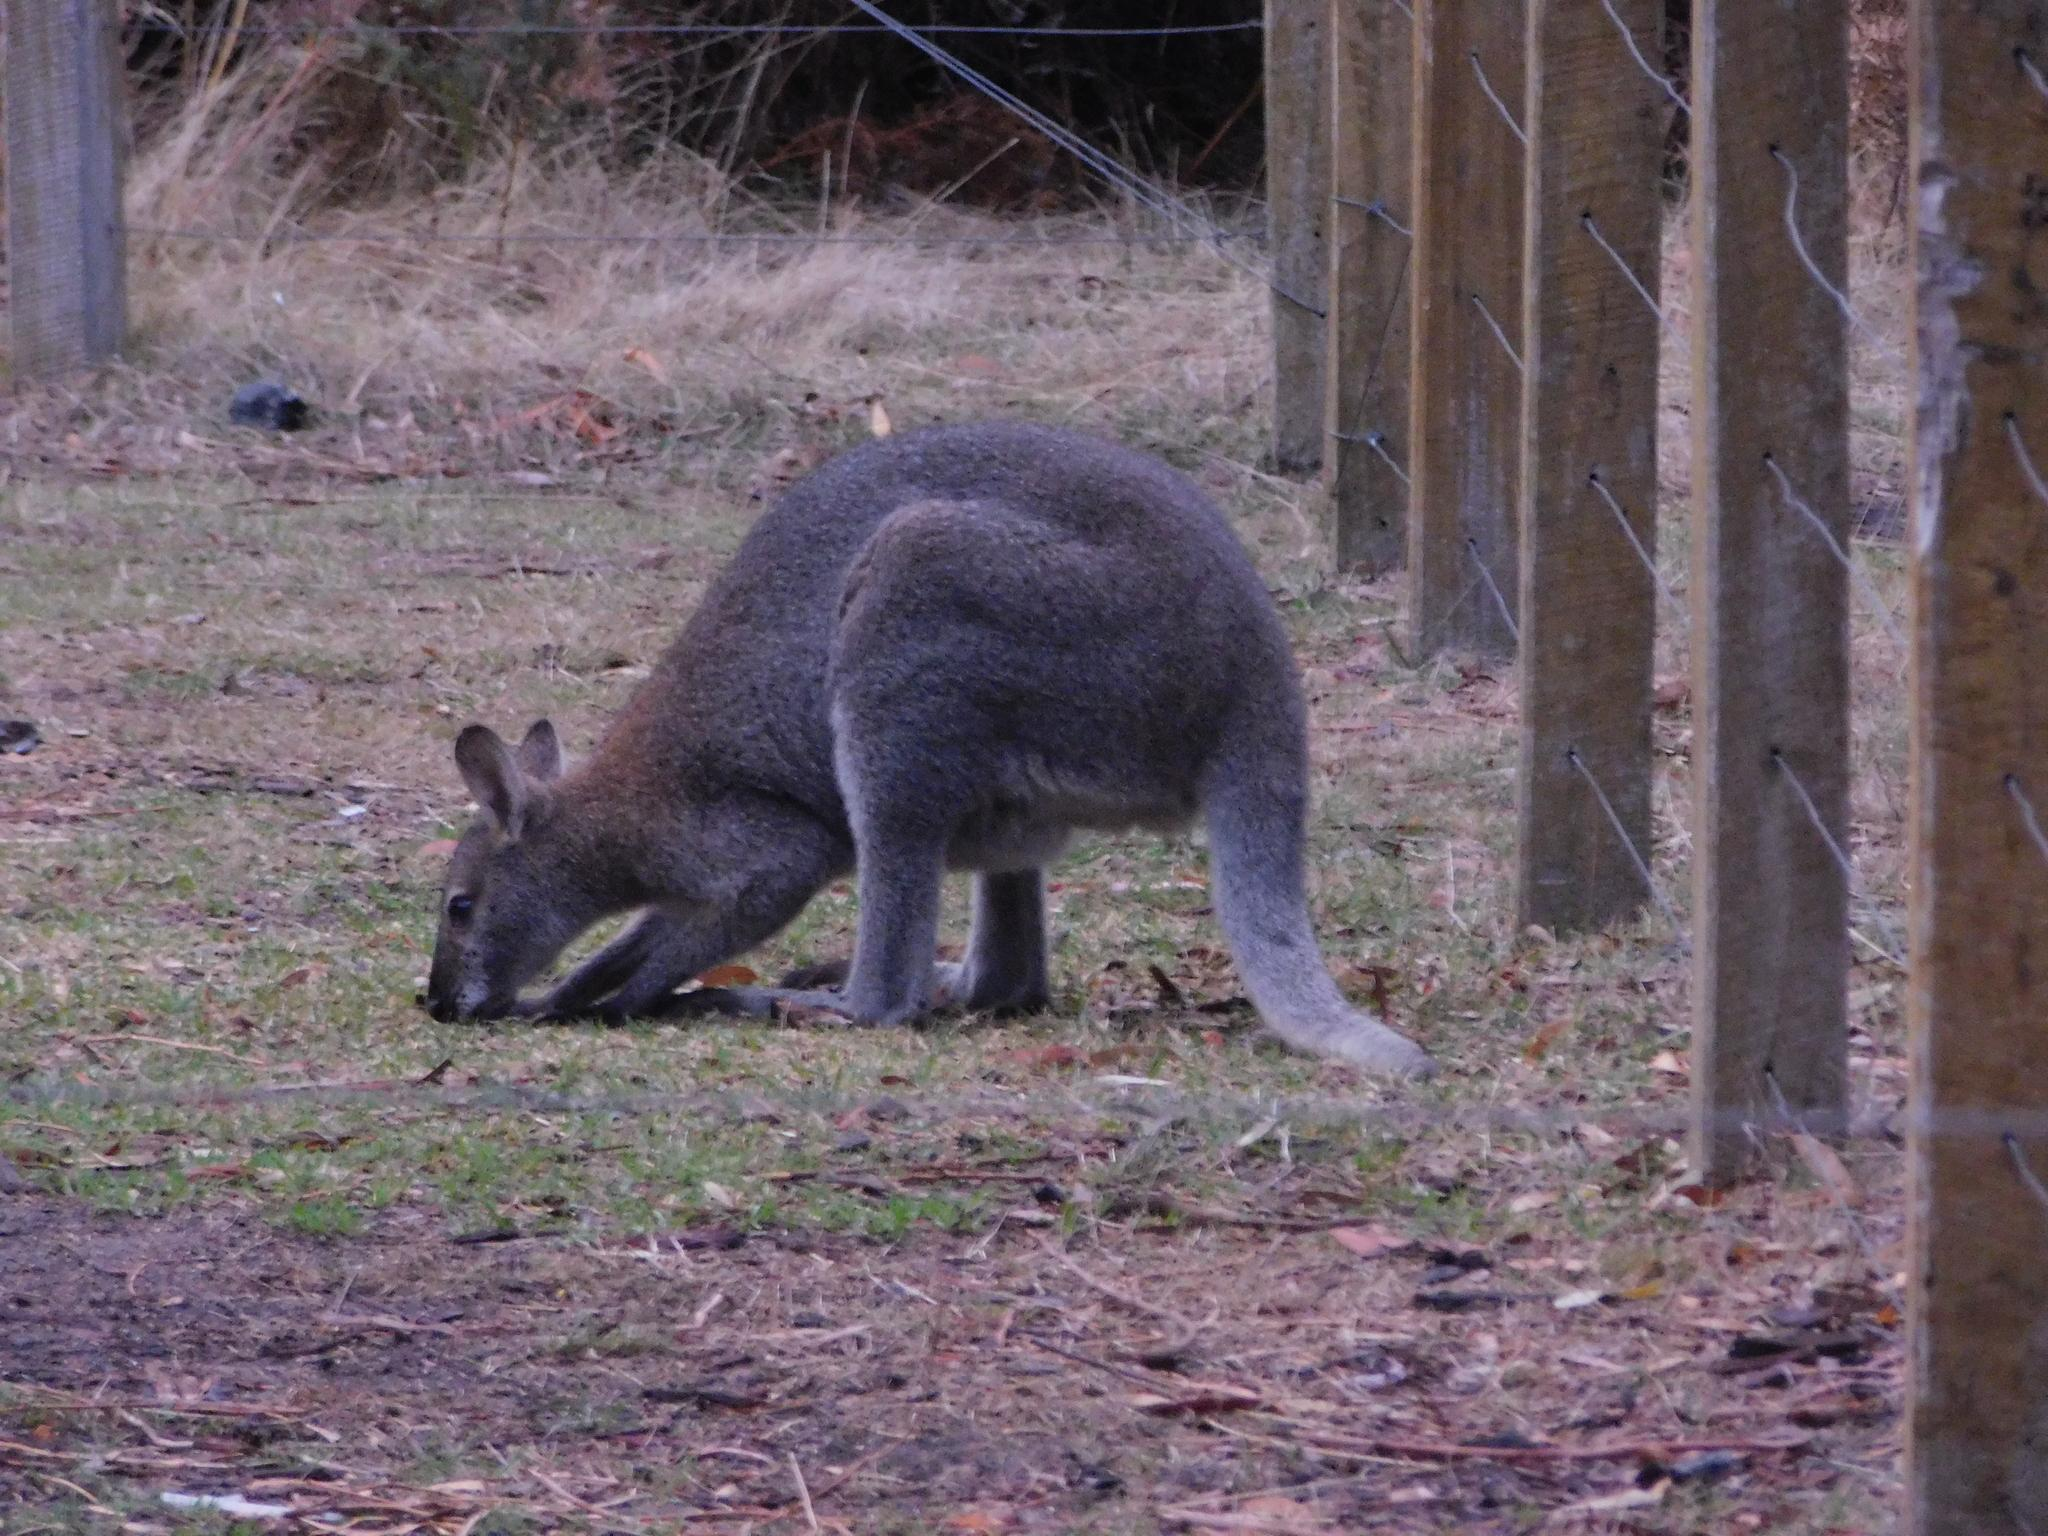Red-necked wallaby: (410, 410, 1413, 1078)
